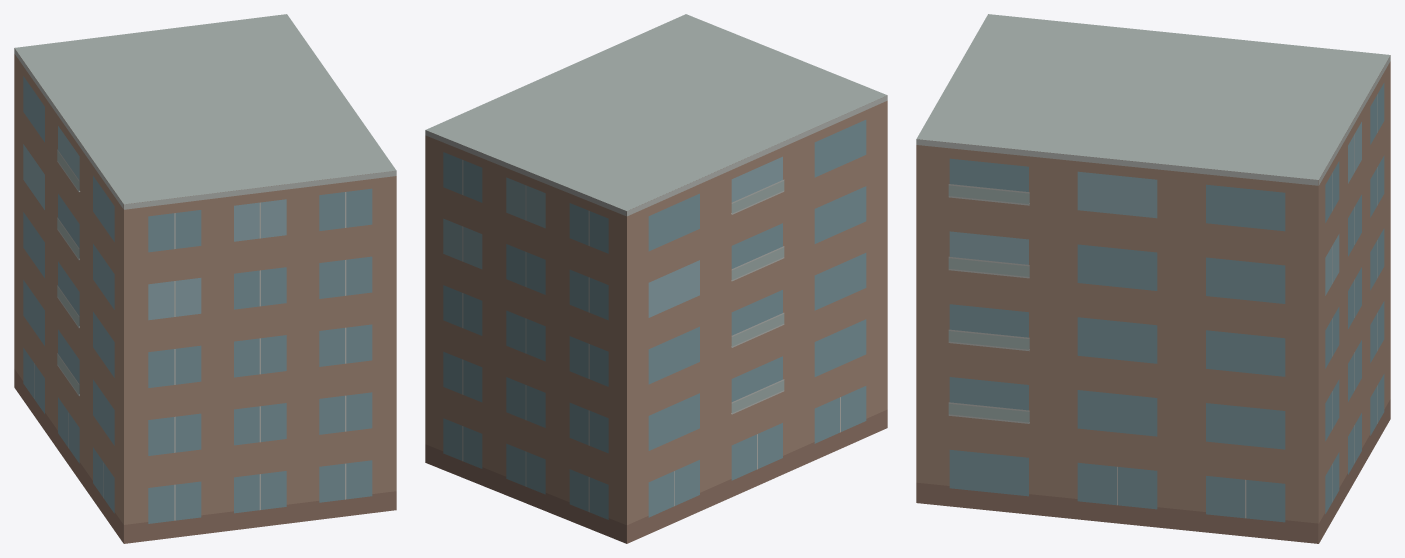
The model's file is survey-upis-32872299.glb.
The picture shows the model from 3 angles, left to right: view 1: azimuth 30°, elevation 25°; view 2: azimuth 150°, elevation 25°; view 3: azimuth 270°, elevation 25°; orthographic projection. The views are drawn at different scales.
Visible parts, largest first — view 1: survey-upis-32872299.tmp; view 2: survey-upis-32872299.tmp; view 3: survey-upis-32872299.tmp.
Boxes of the visible parts, x1=… form: survey-upis-32872299.tmp: x1=14, y1=14, x2=396, y2=543; survey-upis-32872299.tmp: x1=425, y1=14, x2=887, y2=543; survey-upis-32872299.tmp: x1=916, y1=14, x2=1390, y2=543.
Size of the model in its own units: 14.93 by 15.25 by 18.03.
